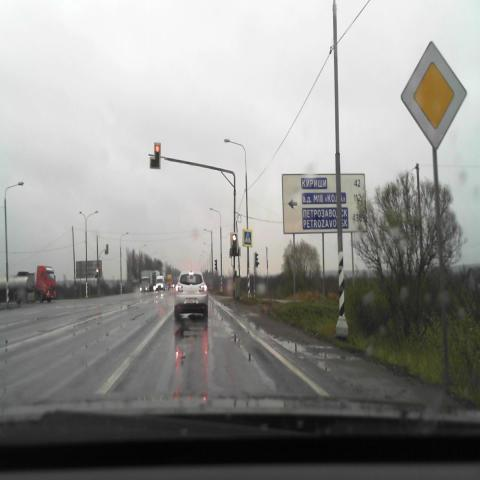2_1: (401, 42, 467, 152)
